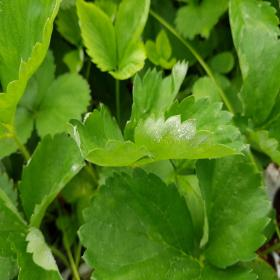Powdery Mildew Leaf: (134, 94, 248, 161), (16, 130, 86, 229), (228, 0, 279, 127), (67, 101, 155, 167), (123, 58, 190, 143), (5, 227, 63, 279)
